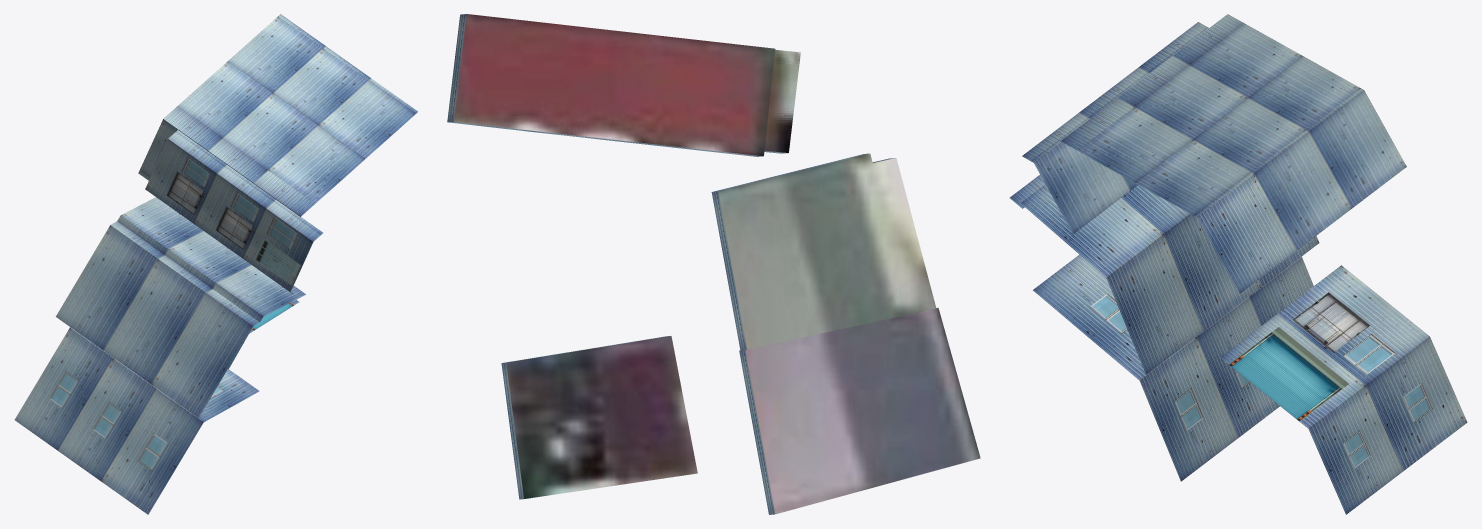
The picture shows the model from 3 angles, left to right: view 1: azimuth 30°, elevation 25°; view 2: azimuth 150°, elevation 25°; view 3: azimuth 270°, elevation 25°; orthographic projection. The views are drawn at different scales.
Size of the model in its own units: 25.33 by 23.67 by 20.36.
14 materials, 14 textured.
